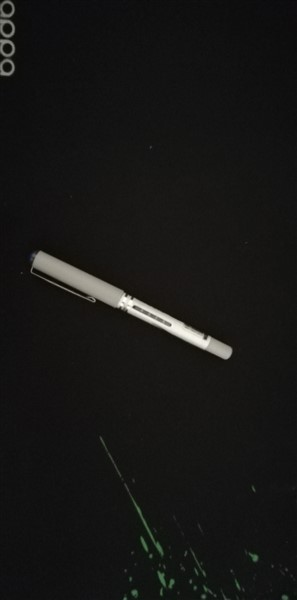pilot kalem: (25, 241, 239, 371)
